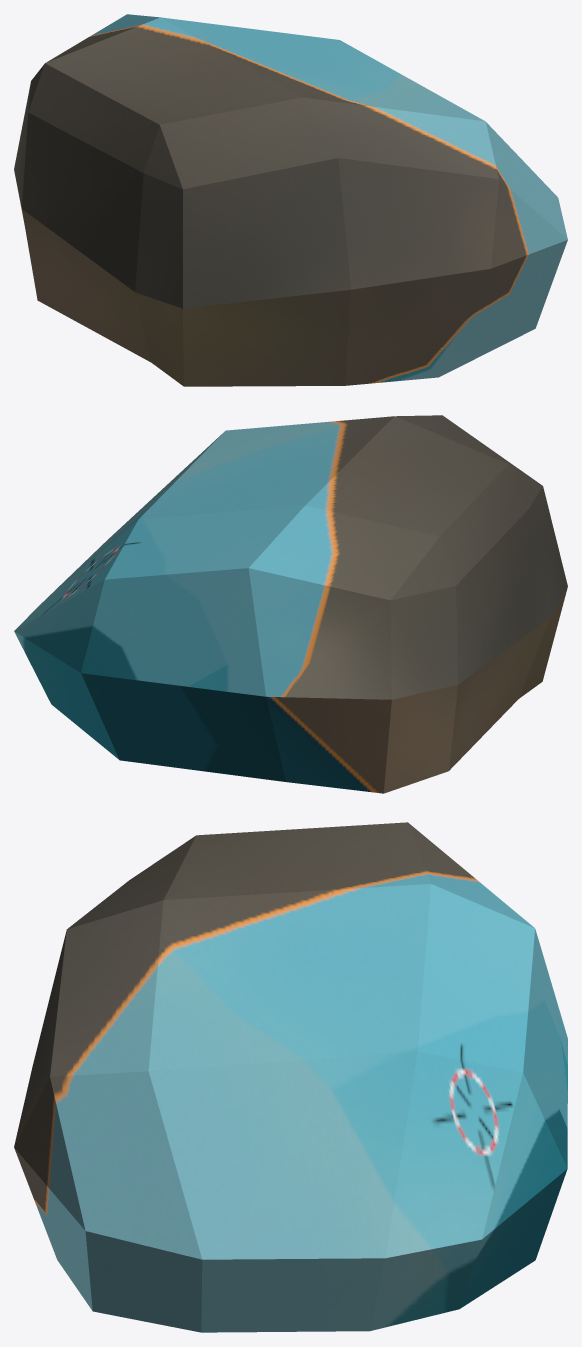
Rendered from cailloux.fbx.
The picture shows the model from 3 angles, top to bottom: view 1: azimuth 30°, elevation 25°; view 2: azimuth 150°, elevation 25°; view 3: azimuth 270°, elevation 25°; orthographic projection. The views are drawn at different scales.
Parts seen in each view (by area): view 1: Cube; view 2: Cube; view 3: Cube.
Boxes of the visible parts, x1=… form: Cube: x1=14, y1=14, x2=567, y2=386; Cube: x1=14, y1=415, x2=567, y2=793; Cube: x1=14, y1=822, x2=567, y2=1332.
Size of the model in its own units: 235 by 136 by 220.
